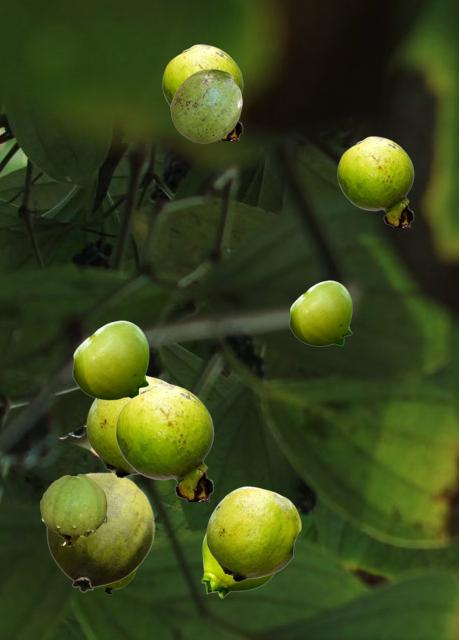guava: (46, 472, 154, 591), (115, 383, 213, 500), (206, 486, 300, 581), (86, 375, 167, 477), (162, 44, 242, 139), (337, 136, 413, 226), (72, 320, 148, 399), (170, 69, 241, 142), (40, 474, 106, 545), (201, 533, 274, 597), (289, 280, 351, 345), (97, 570, 136, 593)
